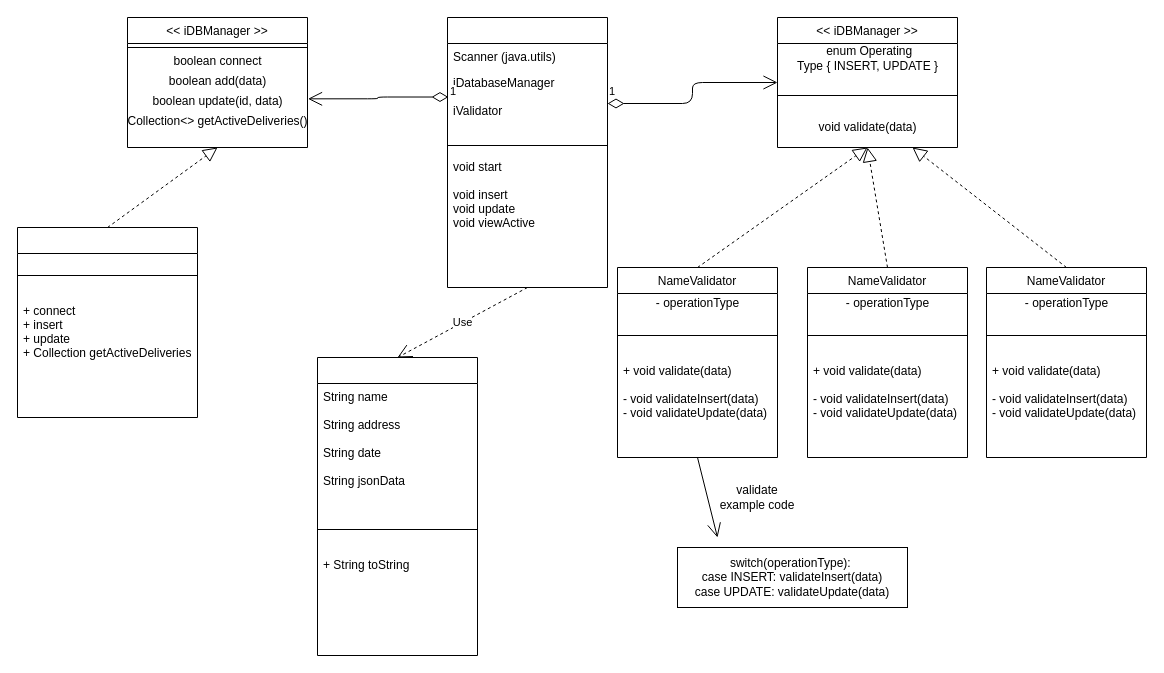
Some shapes in this 1164 by 673 pixel diagram are drawn without their labels. The box of each missing label's shape, as (x1, y1, x2, y2) in pixels:
DeliveryModel: (316, 356, 478, 656)
DeliveryService: (446, 16, 608, 288)
MySqlManager: (16, 226, 198, 418)
